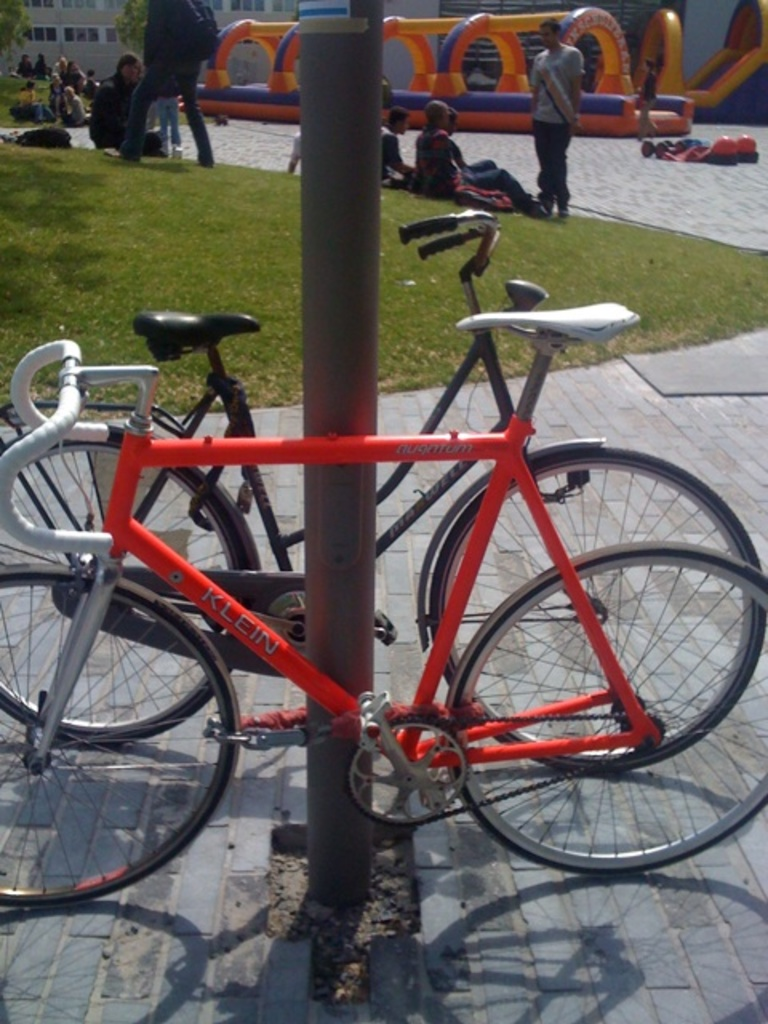bicycle: (0, 201, 766, 772)
